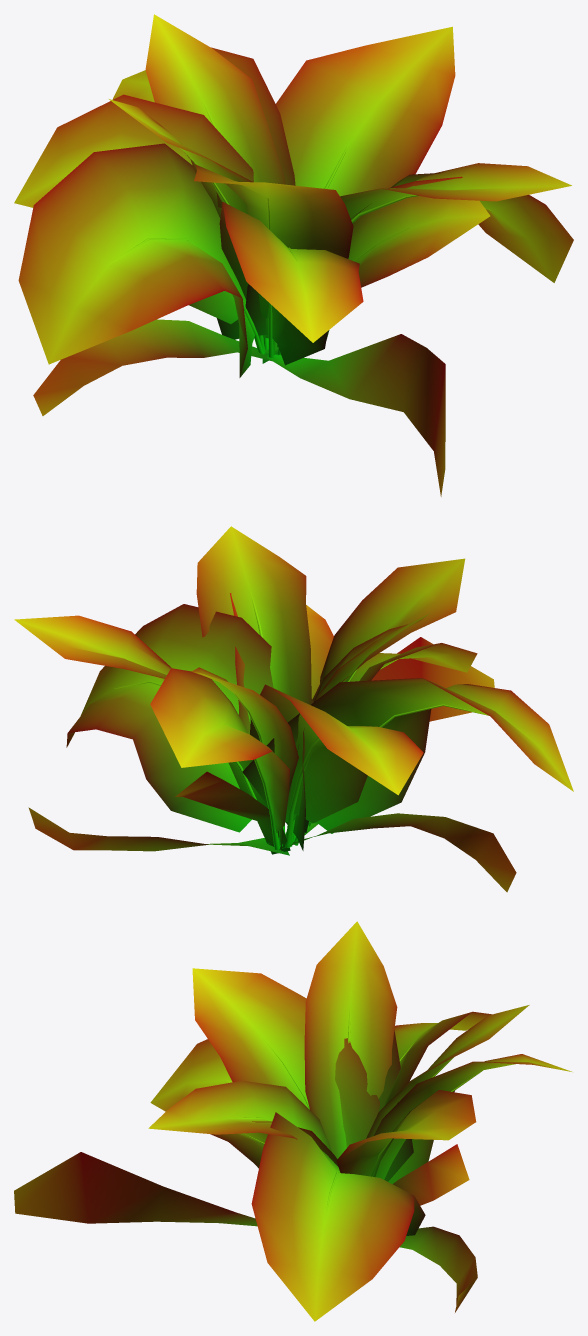
Rendered from Silver Lady Fern_LOD1_Var1_ubolejkia.fbx.
The picture shows the model from 3 angles, top to bottom: view 1: azimuth 30°, elevation 25°; view 2: azimuth 150°, elevation 25°; view 3: azimuth 270°, elevation 25°; orthographic projection. The views are drawn at different scales.
Parts seen in each view (by area): view 1: _b39b_Var1_LOD1; view 2: _b39b_Var1_LOD1; view 3: _b39b_Var1_LOD1.
Boxes of the visible parts, left/top/right/bottom form: _b39b_Var1_LOD1: left=14, top=14, right=573, bottom=496; _b39b_Var1_LOD1: left=14, top=526, right=573, bottom=892; _b39b_Var1_LOD1: left=14, top=921, right=571, bottom=1321.
Size of the model in its own units: 165 by 91.26 by 179.
